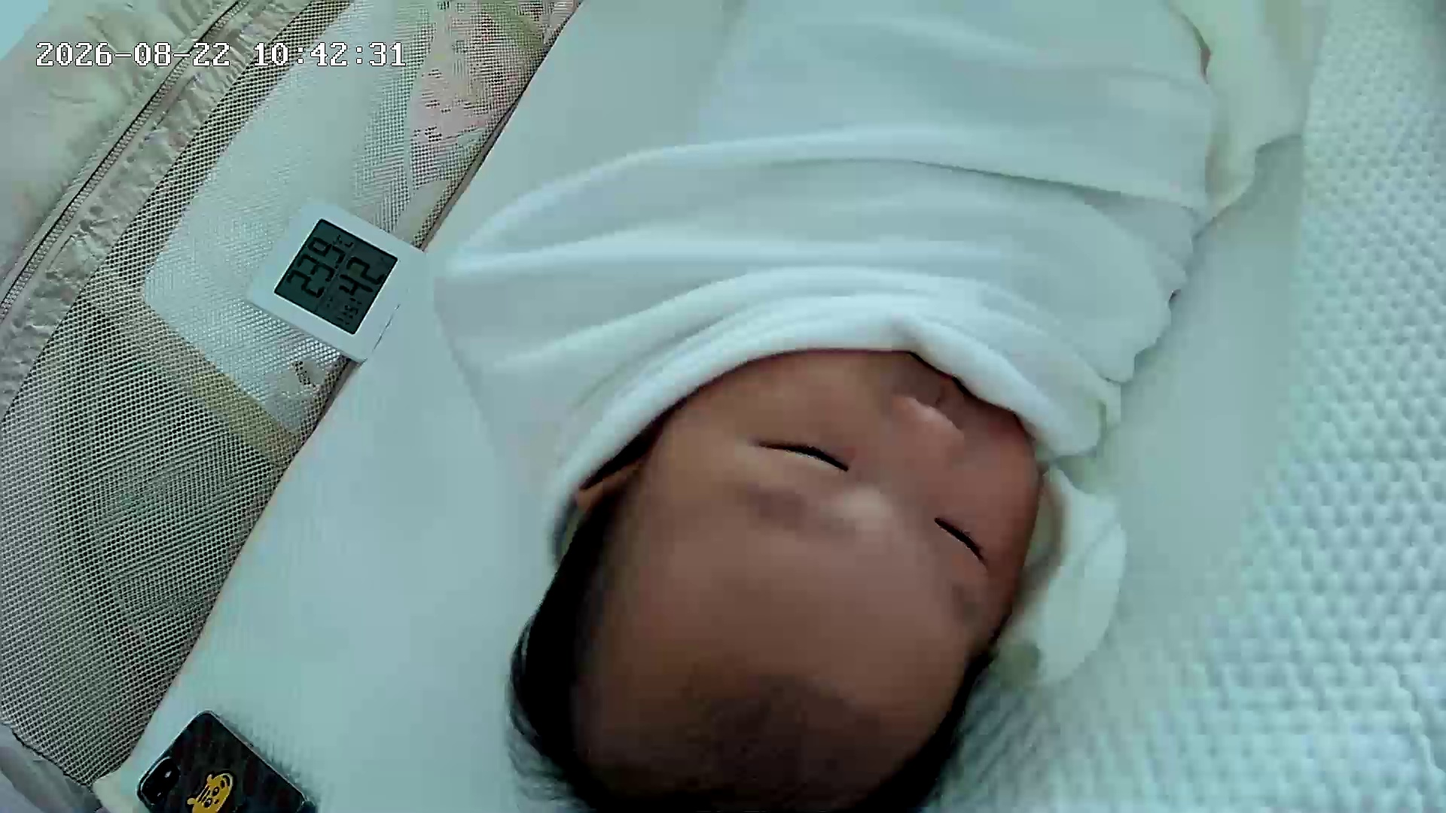baby: (395, 0, 1315, 813)
baby_face: (503, 331, 1086, 813)
